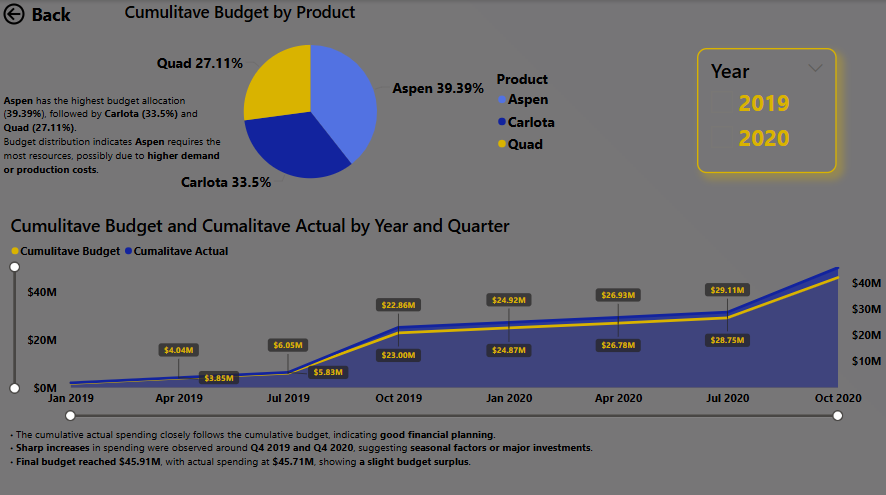

This screenshot's page, from the dashboard's own definition file:
{"tool":"powerbi","page":{"name":"Cumulative Budget","canvas":[1280,720],"ordinal":2},"visuals":[{"type":"areaChart","fields":{"Category":["dCalender.Date.Variation.Date Hierarchy.Year","dCalender.Date.Variation.Date Hierarchy.Quarter","dCalender.Date.Variation.Date Hierarchy.Month"],"Y":["_Measures.Cumalitave Budget"],"Y2":["_Measures.Cumalitave Actual"]},"box":[10.1,308,1269.4,303.6],"z":0},{"type":"slicer","fields":{"Values":["dCalender.Year"]},"box":[1007.7,69.4,202.4,180.7],"z":1000},{"type":"pieChart","title":"Cumulitave Budget by Product","fields":{"Category":["dProduct.Product"],"Y":["_Measures.Cumalitave Budget"]},"box":[174.9,0,647.7,290.6],"z":2000},{"type":"textbox","box":[0,128.7,329.6,138.8],"z":3000},{"type":"textbox","box":[0,611.6,919.5,108.4],"z":4000},{"type":"actionButton","box":[0,0,105.5,40.5],"z":5000}]}

Visuals, with their boxes in screenshot pixels (x1, y1, x2, y2), scaled from the page's 1280x720 canvas onto the 886x495 screenshot:
areaChart - dCalender.Date.Variation.Date Hierarchy.Year x dCalender.Date.Variation.Date Hierarchy.Quarter: [7, 212, 885, 420]
slicer - dCalender.Year: [698, 48, 838, 172]
"Cumulitave Budget by Product" pieChart: [121, 0, 569, 200]
textbox: [0, 88, 228, 184]
textbox: [0, 420, 636, 494]
actionButton: [0, 0, 73, 28]
